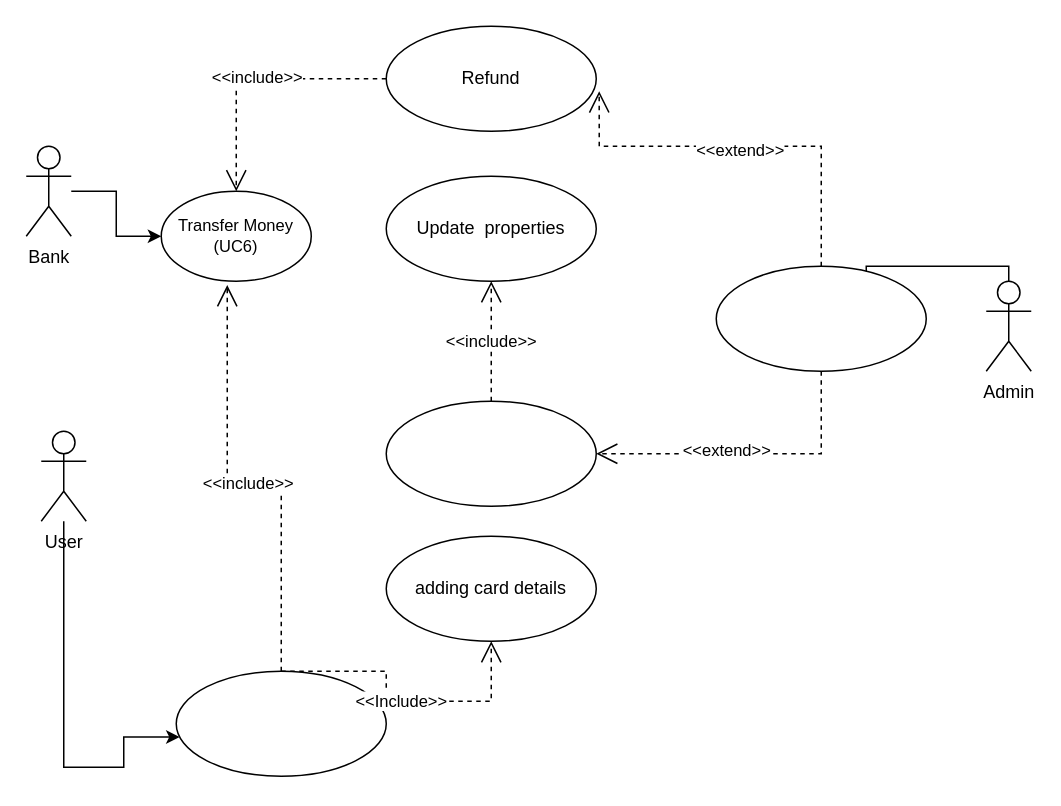
Some shapes in this 1061 by 806 pixel diagram are drawn without their labels. The box of each missing label's shape, as (x1, y1, x2, y2) in pixels:
Login: (715, 265, 926, 371)
Submit properties' change: (385, 400, 596, 506)
Transfering money: (175, 670, 386, 776)
